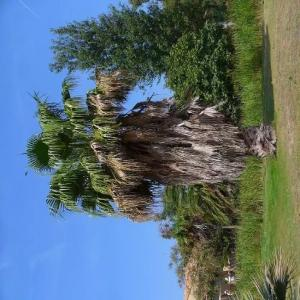palm tree: (156, 181, 238, 299)
